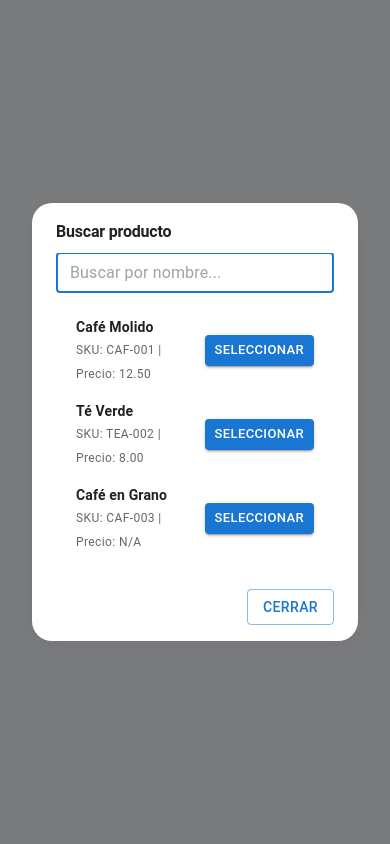
Test: ModalBusquedaProducto › muestra el texto vacío cuando no hay coincidencias
Type "zzz" into the field with placeholder "Buscar por nombre..." at (195, 272), box [56,252,334,292]
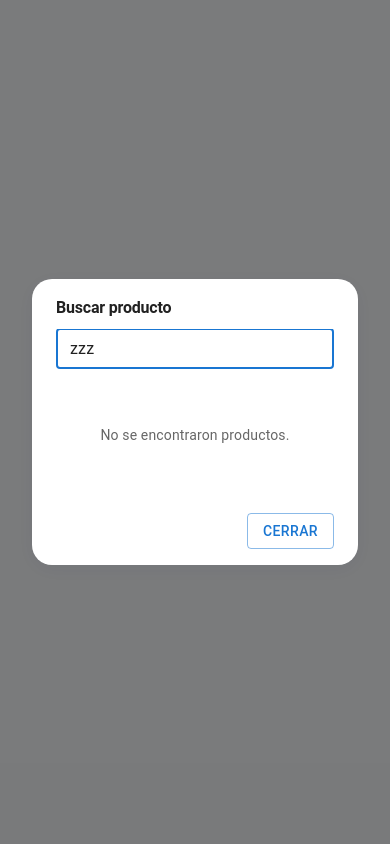
Result: the text "No se encontraron productos." is shown at [100,426,290,442]
